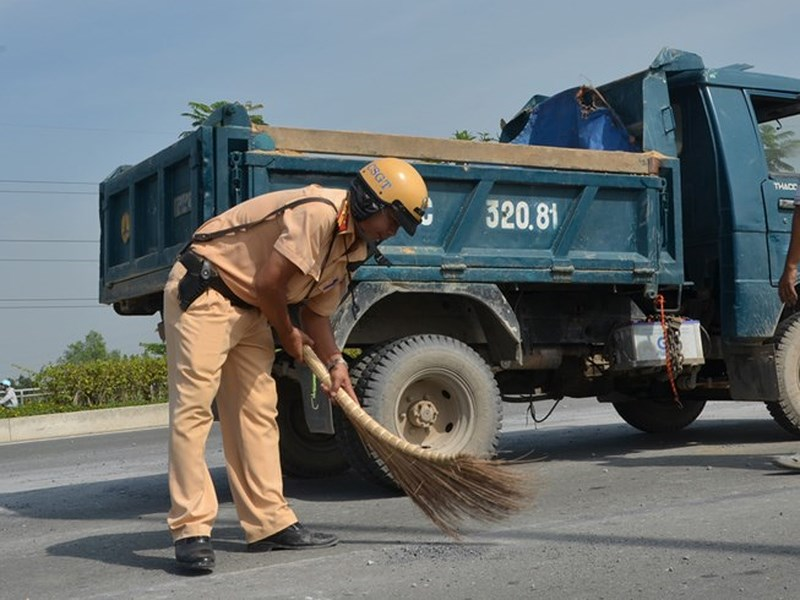police: (127, 164, 433, 552)
